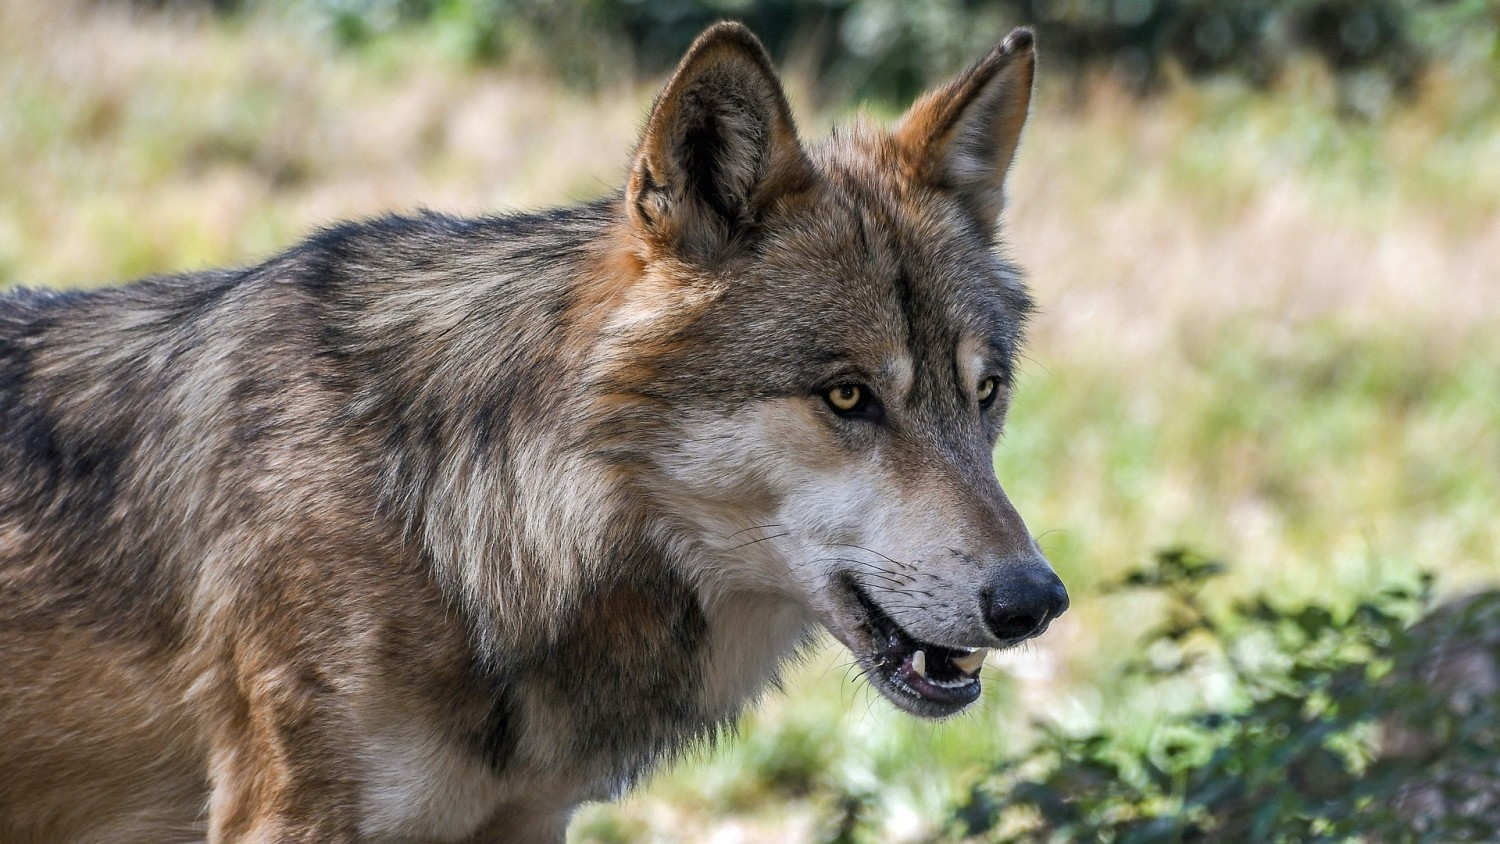wolf: (1, 8, 1126, 829)
